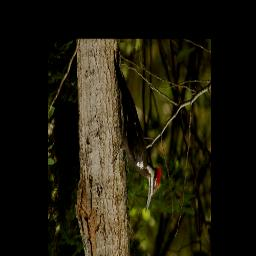Woodpecker: (109, 49, 163, 214)
